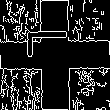L_E: (30, 39, 80, 71)
